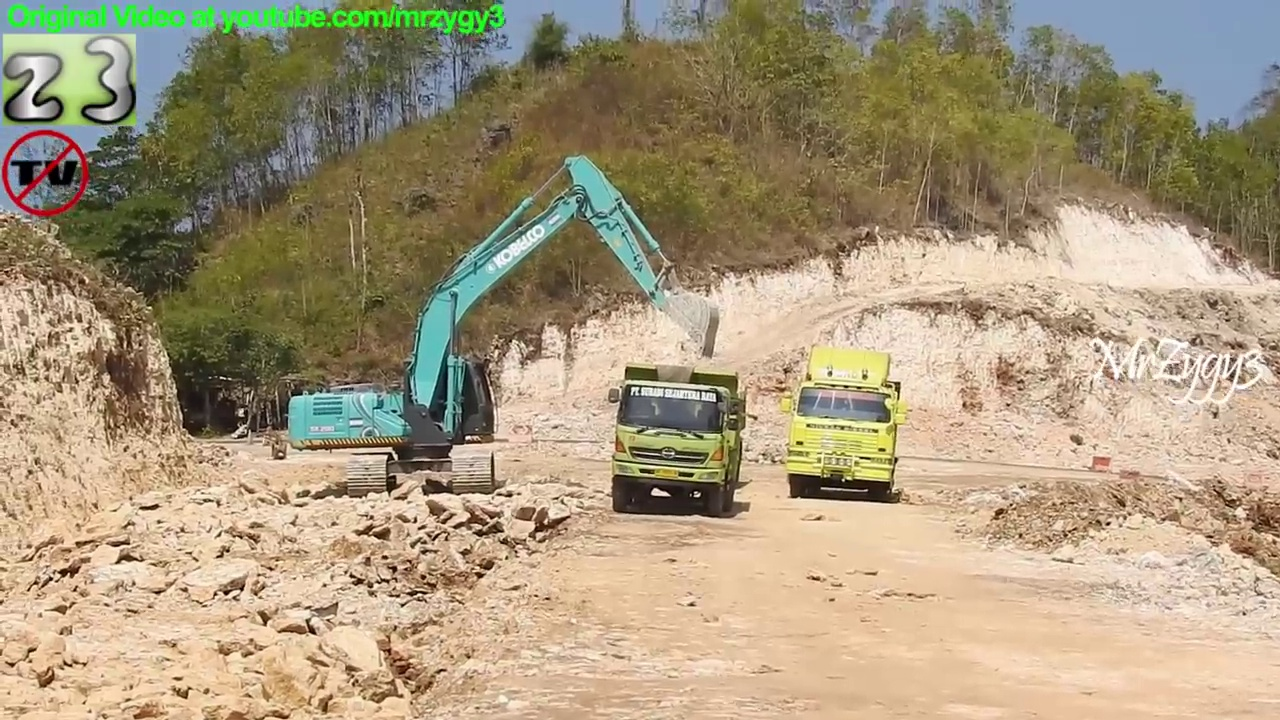excavator: (284, 151, 723, 502)
truck: (606, 358, 760, 519), (774, 341, 912, 512)
